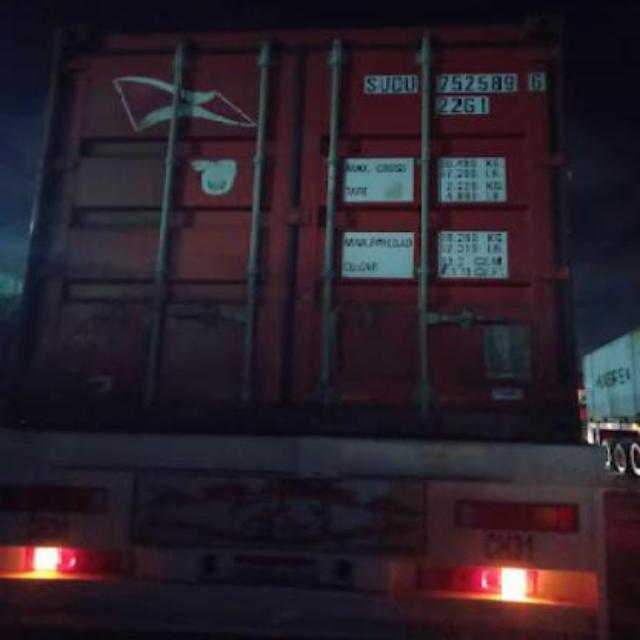2: (464, 75, 476, 93)
5: (451, 75, 464, 93), (476, 73, 489, 91)
6: (530, 74, 546, 88)
7: (436, 75, 449, 91)
8: (490, 73, 502, 93)
9: (502, 72, 516, 92)
D: (391, 75, 404, 93)
S: (366, 75, 378, 91)
U: (378, 75, 390, 93), (404, 75, 416, 91)
